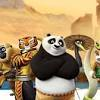KungfuPanda: (14, 23, 71, 99)
